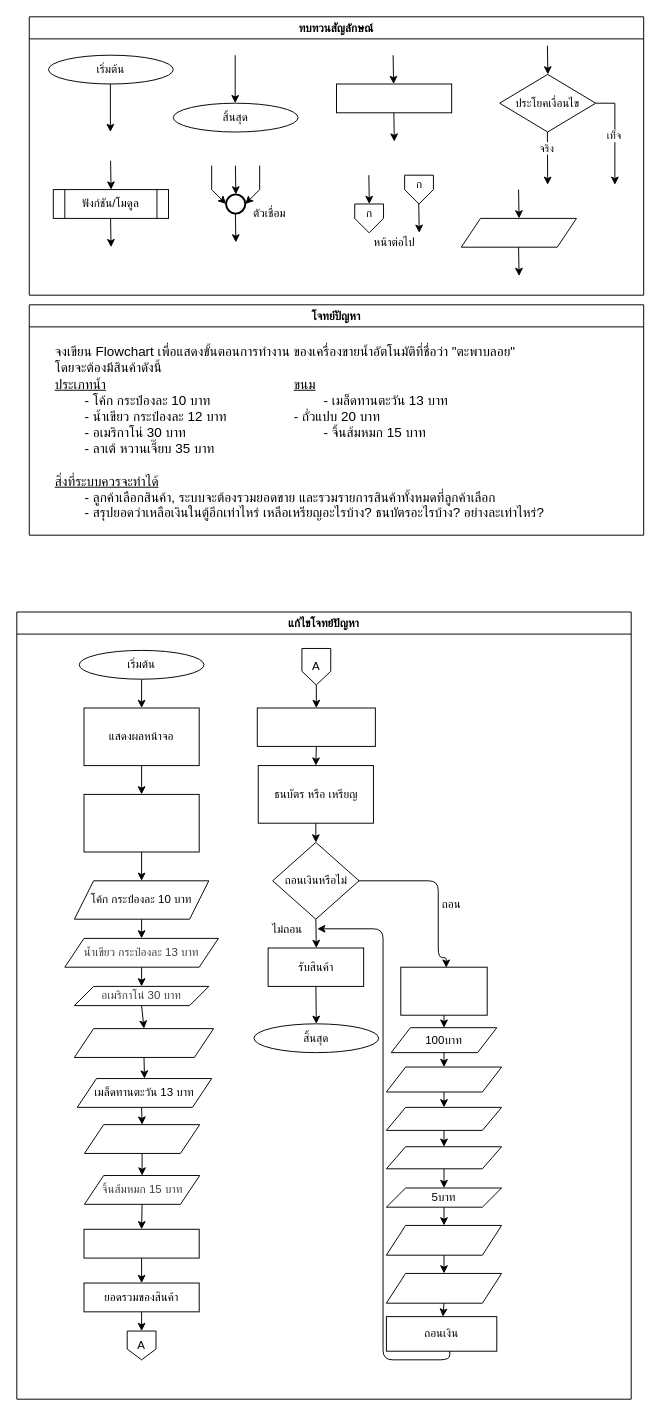
Some shapes in this 660 by 1416 pixel diagram are drawn without their labels. Here are the shapes that lost their labels. From the top down, the centre of each, then its label:
At (394,98): "กระบวนการ".
At (518,232): "แสดงผล/รับค่า".
At (315,726): "เลือกวิธีการขำระ".
At (141,822): "สินค้าประเภทนํ้า และขนม".
At (443,990): "แสกนตรวจสอบว่าเป็นธนบัตรหรือเหรียญอะไร".
At (143,1042): "ลาเต้หวานเจี๊ยบ 35 บาท".
At (443,1079): "50บาท".
At (142,1138): "ถั่วแปบ 20 บาท".
At (443,1118): "20บาท".
At (443,1157): "10บาท".
At (141,1243): "เลือกสินค้าที่ต้องการ".
At (443,1239): "2บาท".
At (443,1287): "1บาท".
